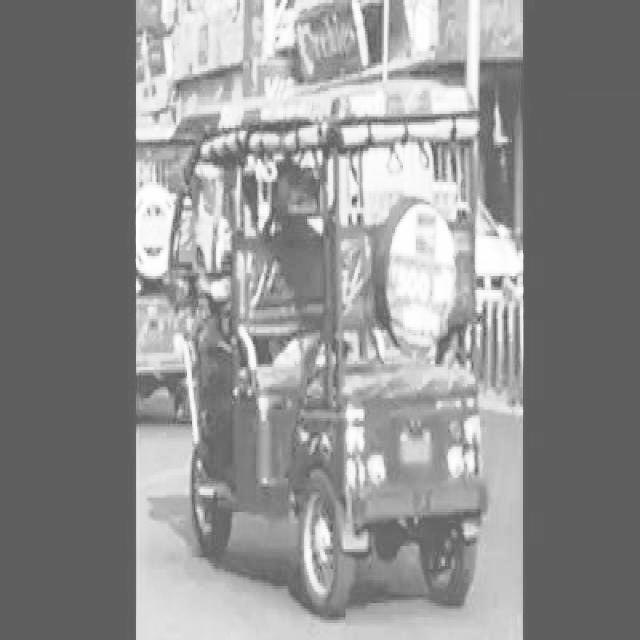Toto: (168, 78, 494, 614)
